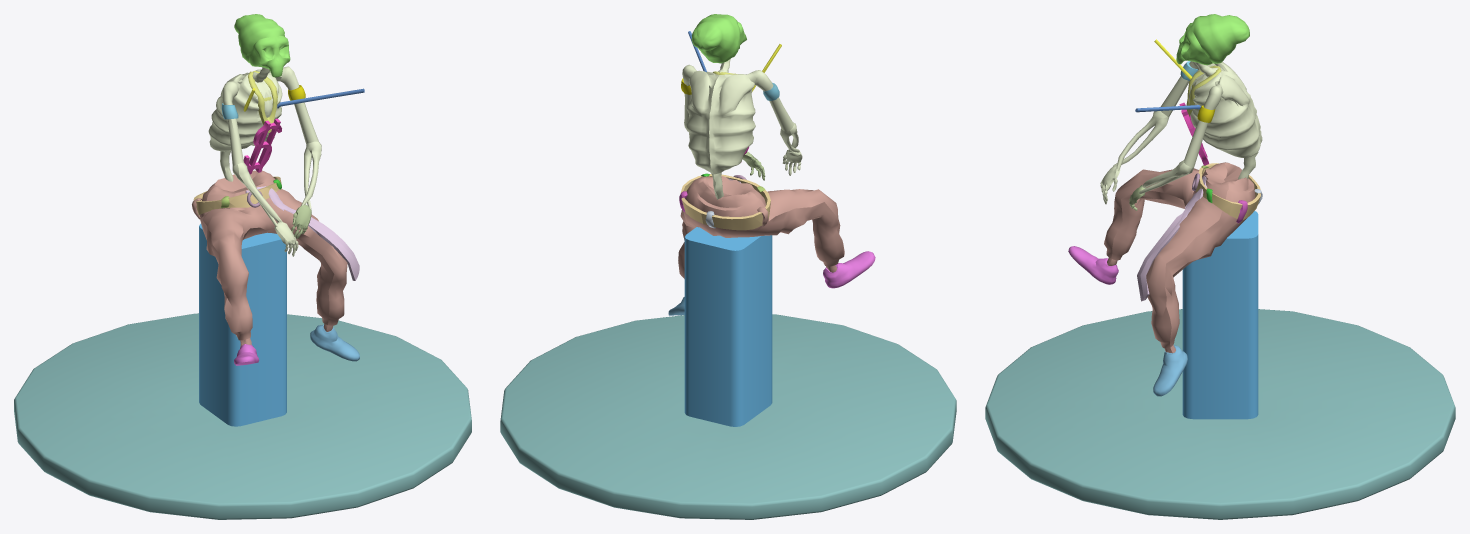
3 renders of one model, left to right at view 1: azimuth 30°, elevation 25°; view 2: azimuth 150°, elevation 25°; view 3: azimuth 270°, elevation 25°, orthographic. The views are drawn at different scales.
Visible parts, largest first — view 1: pCylinder1_SHD_Socle_0, pCube1_SHD_Plot_0, split_parent_19, split_parent_1, Export_Rig_SHD_Skeleton_low_0.028, split_parent_0, polySurface1_SHD_Skeleton_low_0, Export_Rig_SHD_Skeleton_low_0.022, split_parent_17, split_parent_12; view 2: pCylinder1_SHD_Socle_0, pCube1_SHD_Plot_0, split_parent_1, split_parent_19, Export_Rig_SHD_Skeleton_low_0.028, split_parent_17, Export_Rig_SHD_Skeleton_low_0.020; view 3: pCylinder1_SHD_Socle_0, pCube1_SHD_Plot_0, split_parent_19, split_parent_1, Export_Rig_SHD_Skeleton_low_0.028, split_parent_0, Export_Rig_SHD_Skeleton_low_0.022, Export_Rig_SHD_Skeleton_low_0.020, split_parent_17.
Part boxes in pixels (x1=…): pCylinder1_SHD_Socle_0: x1=14, y1=313, x2=471, y2=519; pCube1_SHD_Plot_0: x1=199, y1=223, x2=286, y2=426; split_parent_19: x1=192, y1=170, x2=347, y2=346; split_parent_1: x1=208, y1=66, x2=321, y2=256; Export_Rig_SHD_Skeleton_low_0.028: x1=234, y1=14, x2=290, y2=77; split_parent_0: x1=245, y1=186, x2=359, y2=280; polySurface1_SHD_Skeleton_low_0: x1=243, y1=118, x2=281, y2=174; Export_Rig_SHD_Skeleton_low_0.022: x1=310, y1=324, x2=359, y2=361; split_parent_17: x1=193, y1=176, x2=281, y2=215; split_parent_12: x1=248, y1=70, x2=277, y2=132; pCylinder1_SHD_Socle_0: x1=500, y1=314, x2=956, y2=519; pCube1_SHD_Plot_0: x1=684, y1=227, x2=772, y2=426; split_parent_1: x1=682, y1=59, x2=802, y2=199; split_parent_19: x1=678, y1=176, x2=844, y2=278; Export_Rig_SHD_Skeleton_low_0.028: x1=691, y1=14, x2=746, y2=63; split_parent_17: x1=680, y1=174, x2=770, y2=230; Export_Rig_SHD_Skeleton_low_0.020: x1=823, y1=251, x2=875, y2=288; pCylinder1_SHD_Socle_0: x1=985, y1=309, x2=1455, y2=519; pCube1_SHD_Plot_0: x1=1182, y1=211, x2=1258, y2=419; split_parent_19: x1=1104, y1=162, x2=1255, y2=353; split_parent_1: x1=1100, y1=61, x2=1262, y2=204; Export_Rig_SHD_Skeleton_low_0.028: x1=1176, y1=14, x2=1249, y2=65; split_parent_0: x1=1137, y1=175, x2=1207, y2=301; Export_Rig_SHD_Skeleton_low_0.022: x1=1153, y1=345, x2=1187, y2=396; Export_Rig_SHD_Skeleton_low_0.020: x1=1068, y1=246, x2=1118, y2=284; split_parent_17: x1=1195, y1=163, x2=1260, y2=219.
Bounding box in the file's own units: 1 × 0.966 × 1.
